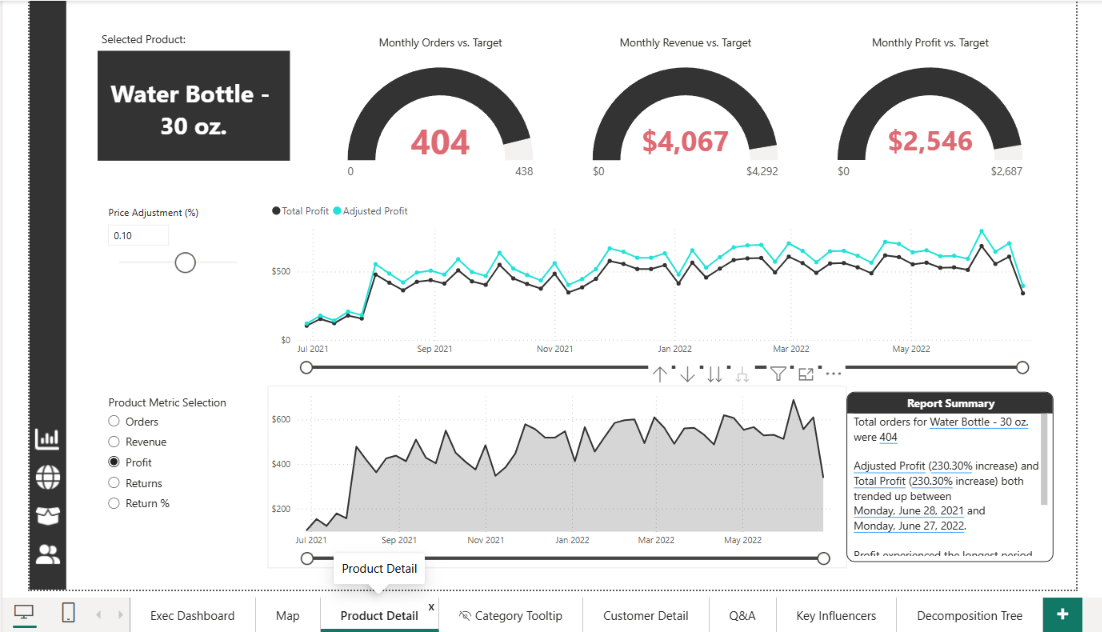

What the dashboard file says about the page in this screenshot:
{"tool":"powerbi","page":{"name":"Product Detail","canvas":[1280,720],"ordinal":2},"visuals":[{"type":"shape","box":[0,0,45,720],"z":0},{"type":"actionButton","box":[2.5,516.7,45.6,37.8],"z":0,"group":"g1"},{"type":"gauge","title":"Monthly Orders vs. Target","fields":{"Y":["Measure Table.Total Orders"],"MaxValue":["Measure Table.Order Target"]},"box":[383.7,41.5,236.9,203.7],"z":1000},{"type":"actionButton","box":[3.3,563.4,45.6,37.8],"z":1000,"group":"g1"},{"type":"gauge","title":"Monthly Revenue vs. Target","fields":{"Y":["Measure Table.Total Revenue"],"MaxValue":["Measure Table.Revenue Target"]},"box":[683.5,41.5,236.9,203.7],"z":2000},{"type":"actionButton","box":[3.3,611.1,45.6,37.8],"z":2000,"group":"g1"},{"type":"gauge","title":"Monthly Profit vs. Target","fields":{"Y":["Measure Table.Total Profit"],"MaxValue":["Measure Table.Profit Target"]},"box":[983.4,41.8,236.2,203.5],"z":3000},{"type":"actionButton","box":[3.3,657.8,45.6,37.8],"z":3000,"group":"g1"},{"type":"lineChart","title":"Profit Trending","fields":{"Category":["Calendar Lookup.Date Hierarchy.Year","Calendar Lookup.Date Hierarchy.Start of Month","Calendar Lookup.Date Hierarchy.Start of Week","Calendar Lookup.Date Hierarchy.Date"],"Y":["Measure Table.Total Profit","Measure Table.Adjusted Profit"]},"box":[290.5,237.4,952.8,221.5],"z":4000},{"type":"areaChart","title":"Return Trending","fields":{"Y":["Measure Table.Total Profit"],"Category":["Calendar Lookup.Date Hierarchy.Year","Calendar Lookup.Date Hierarchy.Start of Month","Calendar Lookup.Date Hierarchy.Start of Week","Calendar Lookup.Date Hierarchy.Date"]},"box":[290.5,471.3,708.7,221.5],"z":5000},{"type":"card","fields":{"Values":["Min(Product Lookup.ProductName)"]},"box":[83.6,61,235.1,134.5],"z":6000},{"type":"textbox","box":[83.6,32.8,136.8,36.2],"z":7000},{"type":"group","id":"g1","title":"Navigation Buttons","box":[2.5,516.7,46.4,178.9],"z":8000},{"type":"slicer","fields":{"Values":["Price Adjustment (%).Price Adjustment (%)"]},"box":[83.6,245.3,193.3,123.2],"z":9000},{"type":"slicer","fields":{"Values":["Product Metric Selection.Product Metric Selection"]},"box":[83.6,477,193.3,180.8],"z":10000},{"type":"textbox","title":"Report Summary","box":[999.2,478.1,253.2,208],"z":11000}]}

Visuals, with their boxes on the page's 1280x720 design canvas (x1, y1, x2, y2). These are canvas units, not pixel positions in the 1102x632 screenshot, which may show the page scaled, cropped or inside an application window:
shape: crop(0, 0, 45, 720)
actionButton: crop(2, 517, 48, 554)
"Monthly Orders vs. Target" gauge: crop(384, 42, 621, 245)
actionButton: crop(3, 563, 49, 601)
"Monthly Revenue vs. Target" gauge: crop(684, 42, 920, 245)
actionButton: crop(3, 611, 49, 649)
"Monthly Profit vs. Target" gauge: crop(983, 42, 1220, 245)
actionButton: crop(3, 658, 49, 696)
"Profit Trending" lineChart: crop(290, 237, 1243, 459)
"Return Trending" areaChart: crop(290, 471, 999, 693)
card - Min(Product Lookup.ProductName): crop(84, 61, 319, 196)
textbox: crop(84, 33, 220, 69)
"Navigation Buttons" group: crop(2, 517, 49, 696)
slicer - Price Adjustment (%).Price Adjustment (%): crop(84, 245, 277, 368)
slicer - Product Metric Selection.Product Metric Selection: crop(84, 477, 277, 658)
"Report Summary" textbox: crop(999, 478, 1252, 686)
